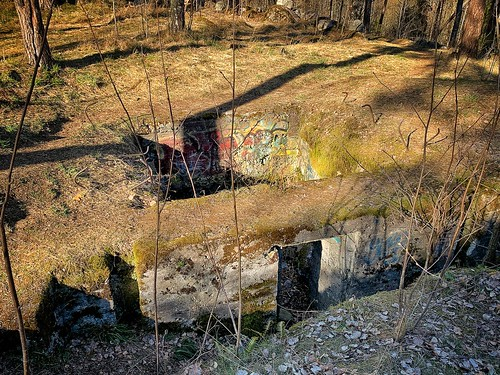graffiti: (143, 121, 312, 184)
grass: (1, 88, 131, 365), (84, 29, 431, 119), (352, 73, 500, 221)
tree: (1, 1, 63, 64), (153, 1, 191, 40)
